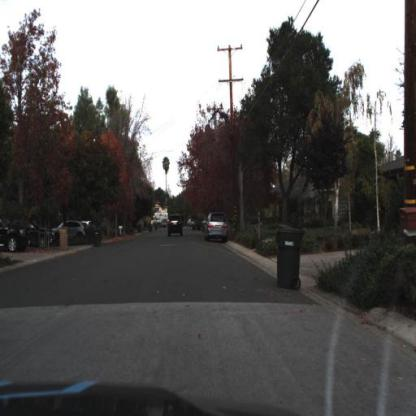car: (1, 212, 38, 256), (32, 216, 57, 247), (206, 211, 230, 243), (59, 218, 87, 241), (165, 212, 186, 238), (192, 221, 202, 233)
